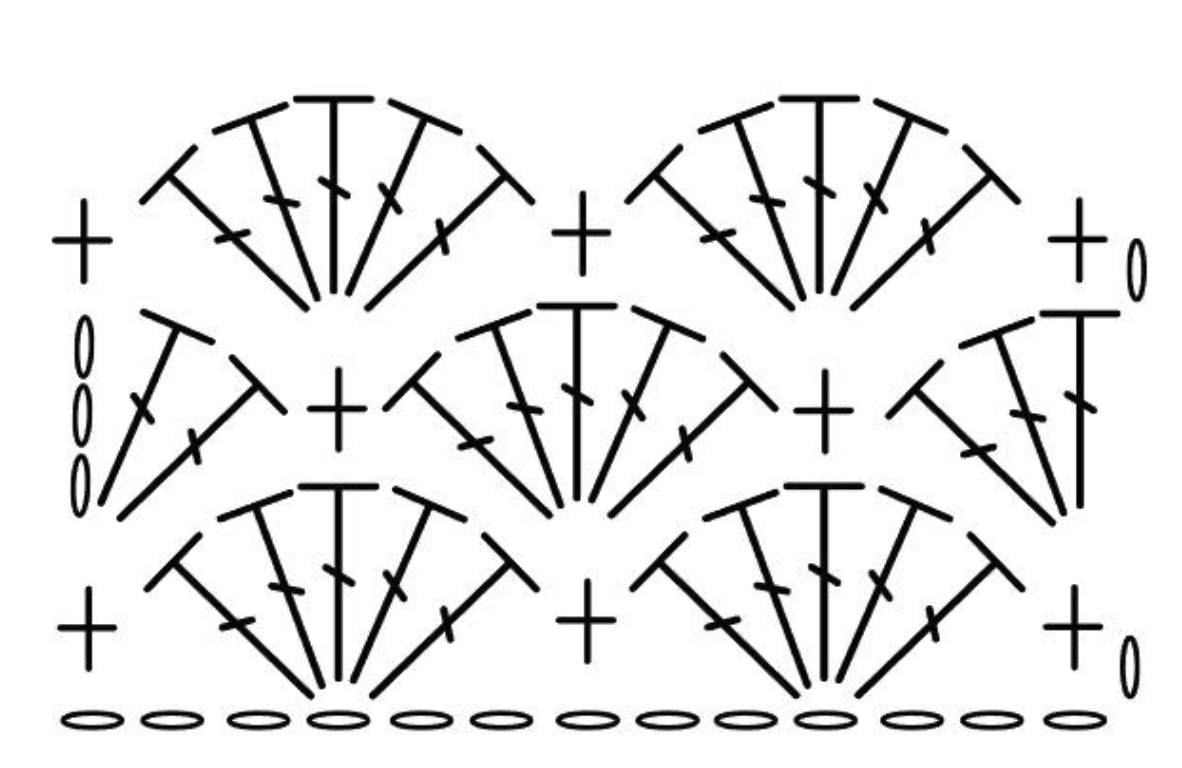chain: (60, 710, 125, 730), (226, 710, 291, 730), (306, 710, 371, 730), (555, 710, 620, 730), (635, 710, 700, 730), (713, 710, 778, 730), (793, 710, 858, 730), (1127, 238, 1147, 302), (140, 710, 204, 730), (390, 710, 454, 730), (880, 710, 944, 730), (960, 710, 1024, 730), (1043, 710, 1107, 730), (1120, 635, 1140, 699), (470, 710, 533, 730), (71, 453, 90, 518), (73, 383, 92, 448), (75, 314, 94, 379)
double: (341, 530, 543, 731), (336, 141, 538, 342), (822, 141, 1024, 342), (137, 142, 340, 342), (622, 141, 825, 341), (579, 350, 781, 550), (826, 530, 1028, 730), (89, 353, 291, 553), (380, 350, 583, 549), (883, 357, 1086, 556), (627, 529, 828, 728), (142, 530, 344, 728), (312, 484, 470, 702), (550, 303, 708, 521), (797, 483, 955, 701), (60, 306, 218, 524), (308, 96, 465, 314), (793, 95, 950, 313), (695, 100, 844, 317), (210, 100, 358, 317), (454, 307, 601, 524), (957, 314, 1104, 531), (216, 487, 362, 704), (701, 486, 847, 703), (297, 483, 380, 682), (535, 302, 618, 501), (782, 482, 865, 681), (292, 94, 375, 293), (777, 93, 860, 292), (1039, 310, 1121, 509)
single: (793, 368, 855, 456), (306, 366, 368, 453), (555, 578, 617, 665), (1047, 197, 1109, 283), (52, 198, 113, 285), (1042, 584, 1103, 671), (551, 191, 611, 277), (57, 586, 117, 672)
